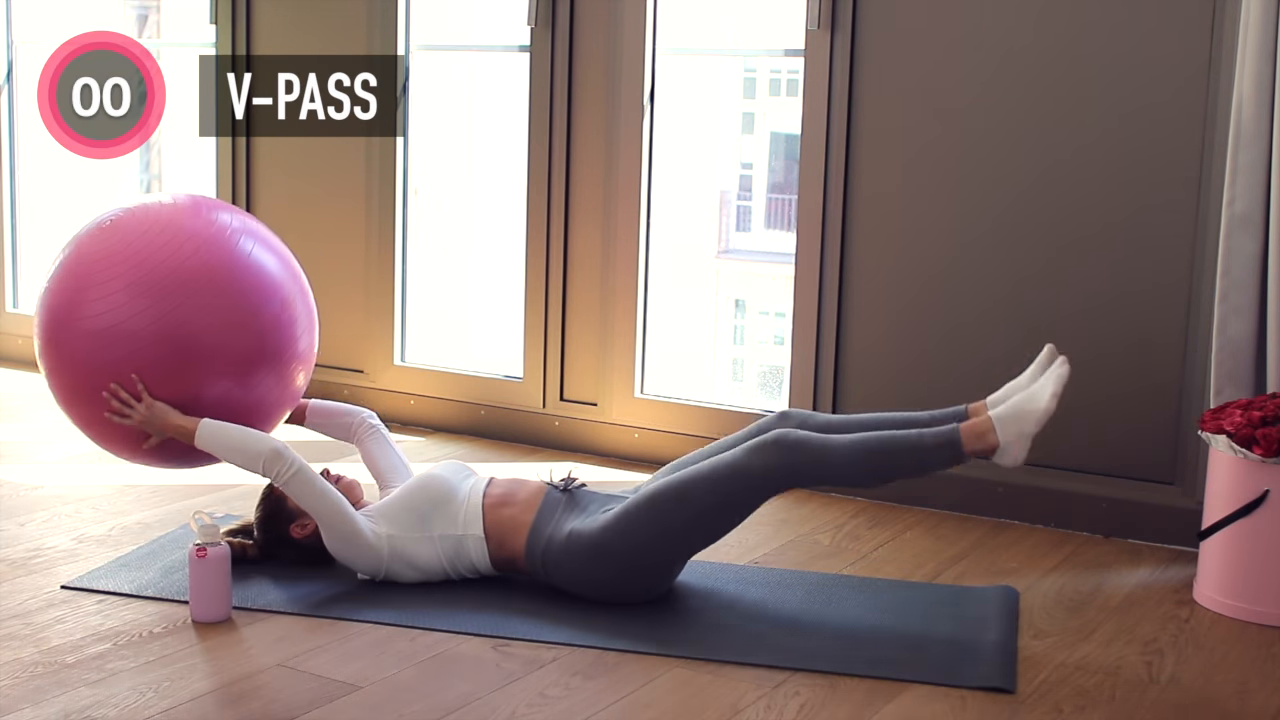yogaball: (30, 189, 323, 476)
